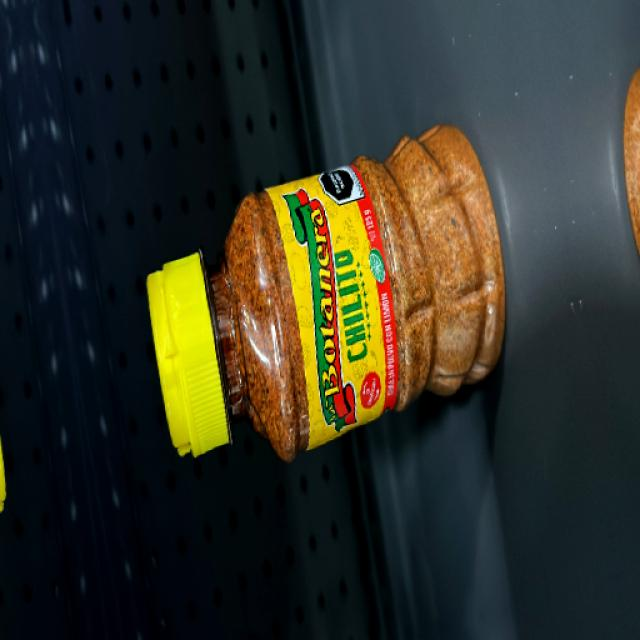botaneraChilito: (147, 140, 519, 426)
